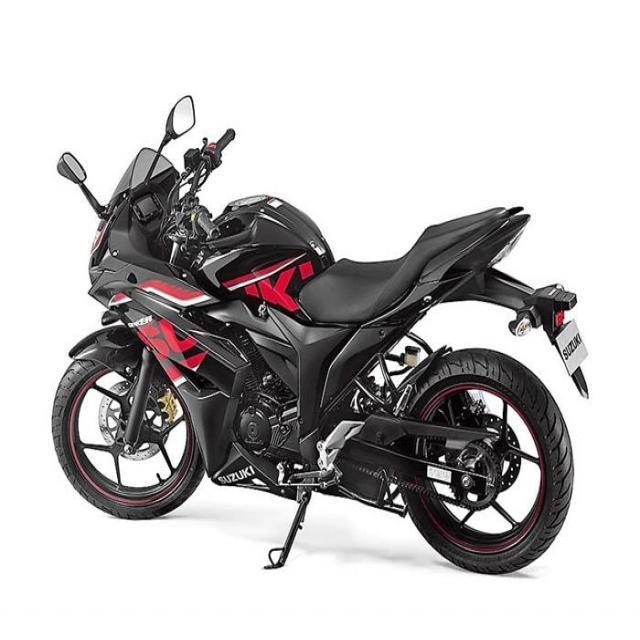Motorbike: (31, 62, 614, 608)
